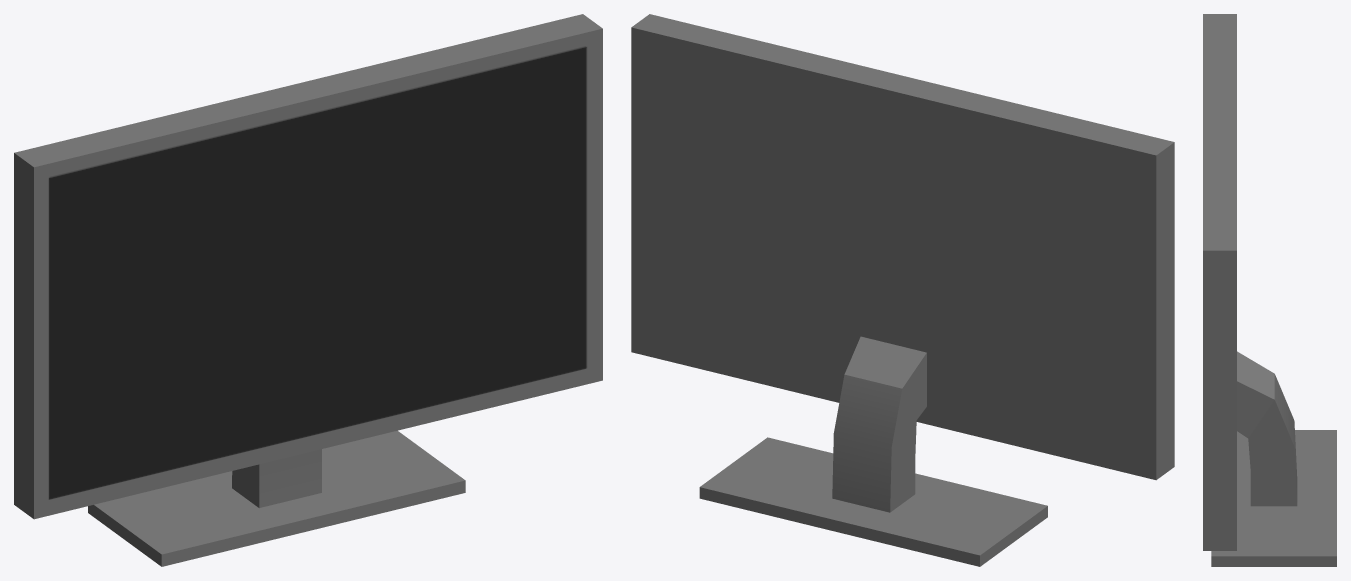
Rendered from Monitor.fbx.
The picture shows the model from 3 angles, left to right: view 1: azimuth 30°, elevation 25°; view 2: azimuth 150°, elevation 25°; view 3: azimuth 270°, elevation 25°; orthographic projection. The views are drawn at different scales.
Visible parts, largest first — view 1: Screen; view 2: Screen; view 3: Screen.
Part boxes in pixels (x1,y1,x2,y2): Screen: (14, 14, 602, 566); Screen: (631, 14, 1174, 566); Screen: (1203, 14, 1336, 566).
Bounding box in the file's own units: 2.12 × 1.55 × 0.5052.
1 material, 1 textured.
